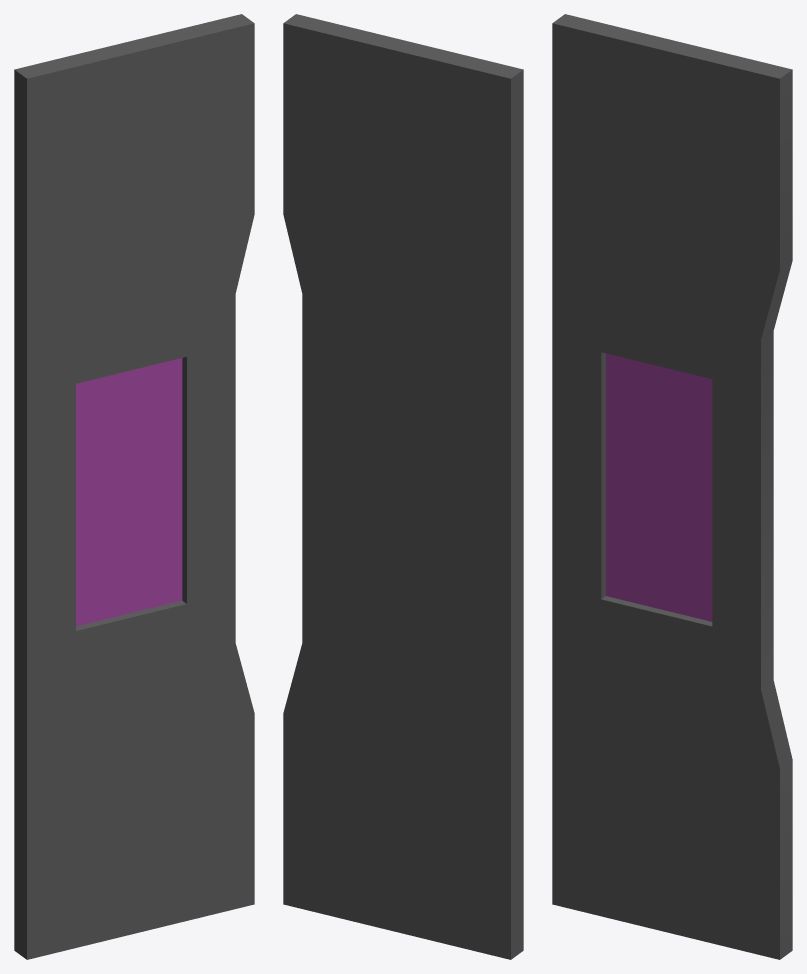
The model's file is Porte Armoire 2.fbx.
3 renders of one model, left to right at view 1: azimuth 30°, elevation 25°; view 2: azimuth 150°, elevation 25°; view 3: azimuth 330°, elevation 25°, orthographic.
Visible parts, largest first — view 1: polySurface7; view 2: polySurface7; view 3: polySurface7.
Boxes of the visible parts, x1=… form: polySurface7: x1=14, y1=14, x2=254, y2=959; polySurface7: x1=283, y1=14, x2=523, y2=959; polySurface7: x1=552, y1=14, x2=792, y2=959.
Size of the model in its own units: 2.8 by 10.35 by 0.2703.
